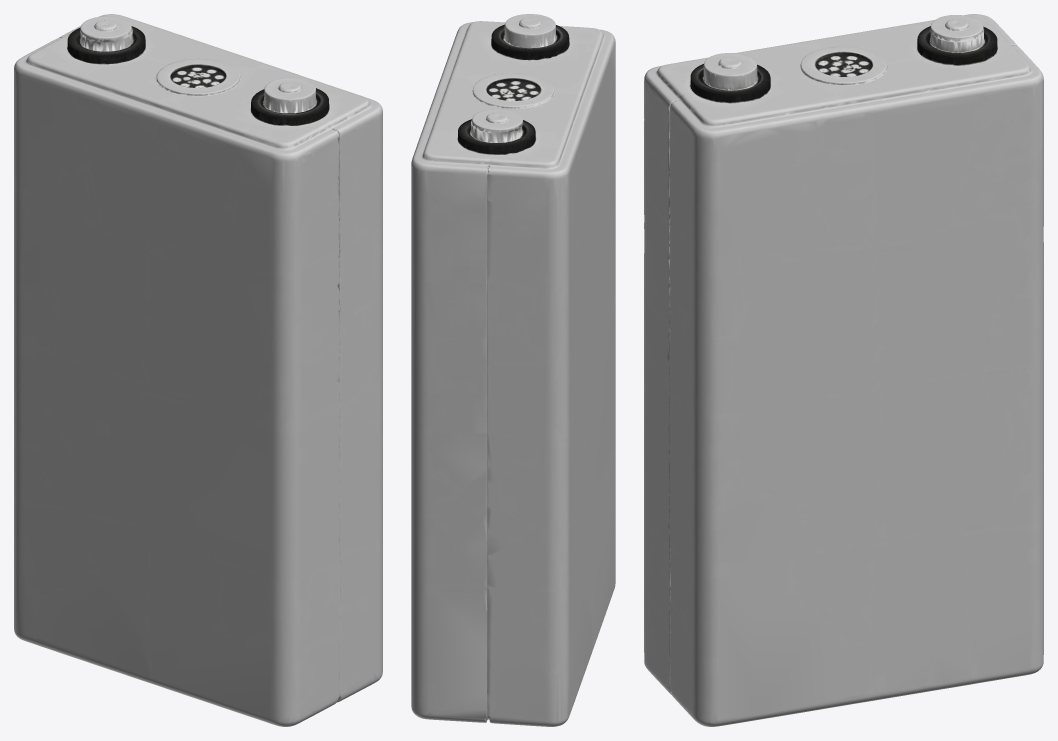
The model's file is cell.glb.
3 views of the same model, side by side, from view 1: azimuth 30°, elevation 25°; view 2: azimuth 150°, elevation 25°; view 3: azimuth 270°, elevation 25° (orthographic). The views are drawn at different scales.
Parts seen in each view (by area): view 1: tripo_node_282c4fb8-e3cc-4b1c-8635-b7dfd3f6a78a; view 2: tripo_node_282c4fb8-e3cc-4b1c-8635-b7dfd3f6a78a; view 3: tripo_node_282c4fb8-e3cc-4b1c-8635-b7dfd3f6a78a.
Part boxes in pixels (bbox=[...]): tripo_node_282c4fb8-e3cc-4b1c-8635-b7dfd3f6a78a: bbox=[14, 14, 382, 726]; tripo_node_282c4fb8-e3cc-4b1c-8635-b7dfd3f6a78a: bbox=[411, 14, 615, 726]; tripo_node_282c4fb8-e3cc-4b1c-8635-b7dfd3f6a78a: bbox=[644, 14, 1043, 726].
Bounding box in the file's own units: 13214 × 32087 × 18528.
Materials: 1 (1 with a texture image).
